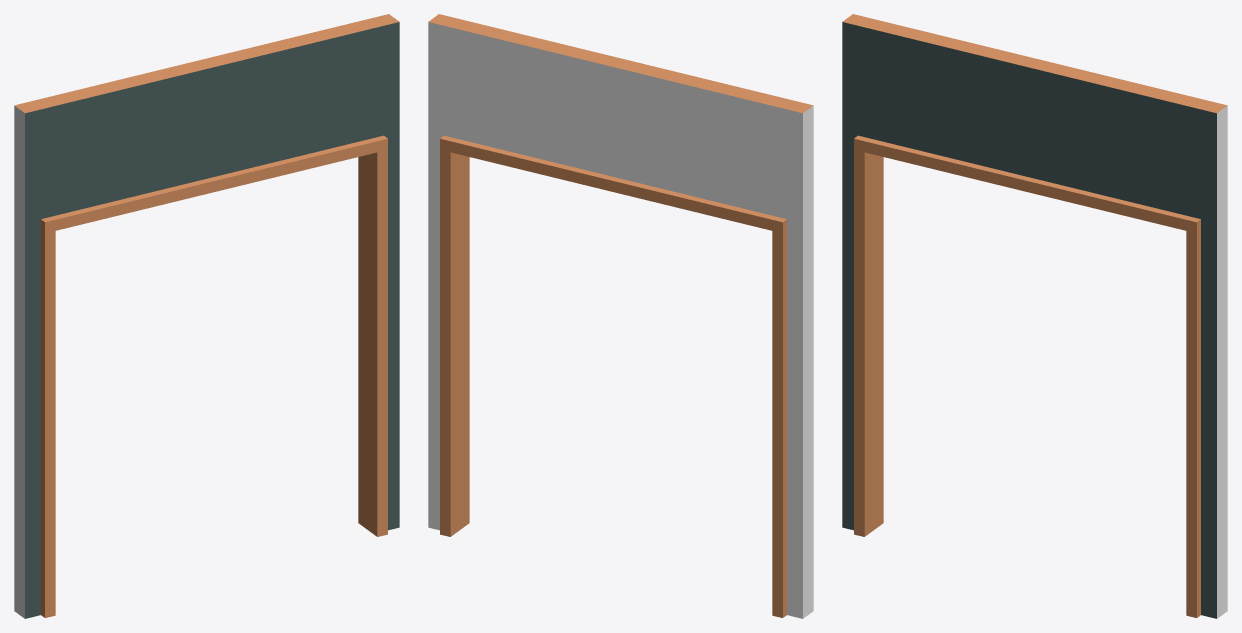
Rendered from wallDoorwayWide.obj.
3 renders of one model, left to right at view 1: azimuth 30°, elevation 25°; view 2: azimuth 150°, elevation 25°; view 3: azimuth 330°, elevation 25°, orthographic.
Parts seen in each view (by area): view 1: wallDoorwayWide; view 2: wallDoorwayWide; view 3: wallDoorwayWide.
Boxes of the visible parts, box(x1,y1,x2,y2) form: wallDoorwayWide: box(14, 14, 399, 618); wallDoorwayWide: box(428, 14, 813, 618); wallDoorwayWide: box(842, 14, 1227, 618).
Size of the model in its own units: 1 by 1.29 by 0.0891.
